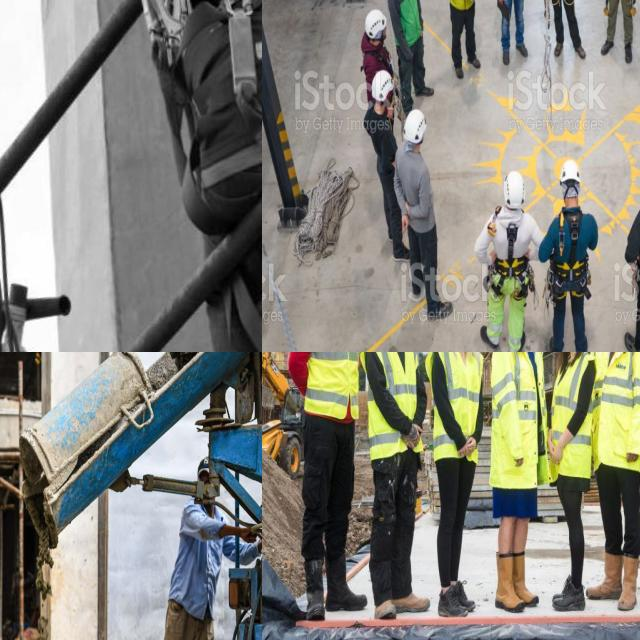Harness: (199, 0, 262, 188), (484, 200, 538, 306), (542, 206, 593, 308), (360, 45, 400, 105)
boots: (325, 552, 369, 617), (583, 548, 624, 602), (493, 544, 524, 614), (300, 554, 326, 625), (512, 549, 542, 609), (617, 555, 640, 613)
hand_noglove: (547, 429, 569, 470), (400, 421, 425, 455), (459, 434, 478, 458)
person: (363, 352, 432, 623), (300, 352, 368, 618), (489, 352, 547, 612), (429, 352, 484, 614), (157, 455, 227, 640), (595, 352, 640, 609), (550, 352, 593, 611)
shoes: (388, 580, 432, 617), (549, 577, 587, 613), (436, 583, 471, 619), (369, 592, 397, 622)
vest: (431, 352, 489, 472), (362, 352, 421, 461), (552, 352, 592, 483), (489, 352, 546, 442), (300, 352, 364, 421), (589, 352, 640, 428)
